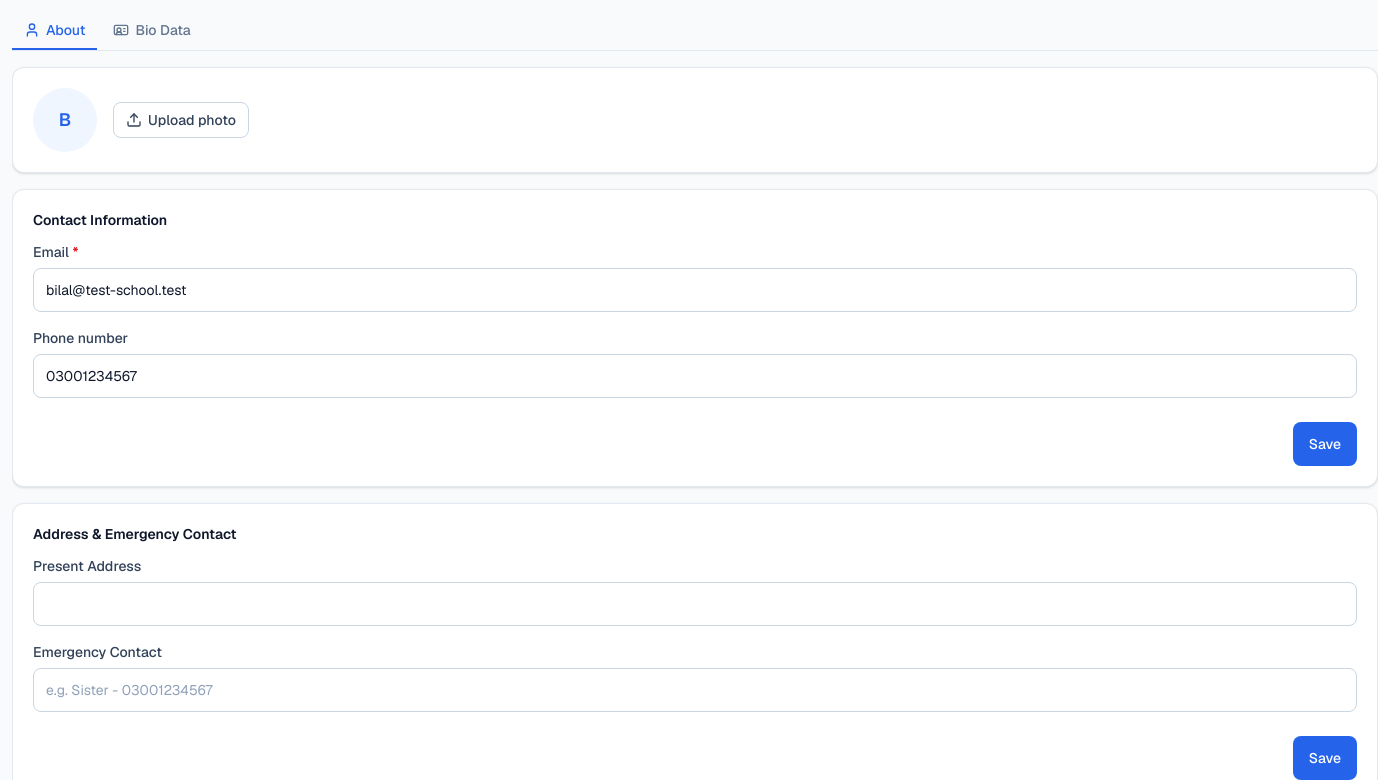
Test: StaffProfileTabs › shows read-only Bio Data (CNIC, DOB, gender) with no editable fields
The width and height of the screenshot is (1378, 780).
Click the button "Bio Data" at (152, 31), box [101,12,203,50]
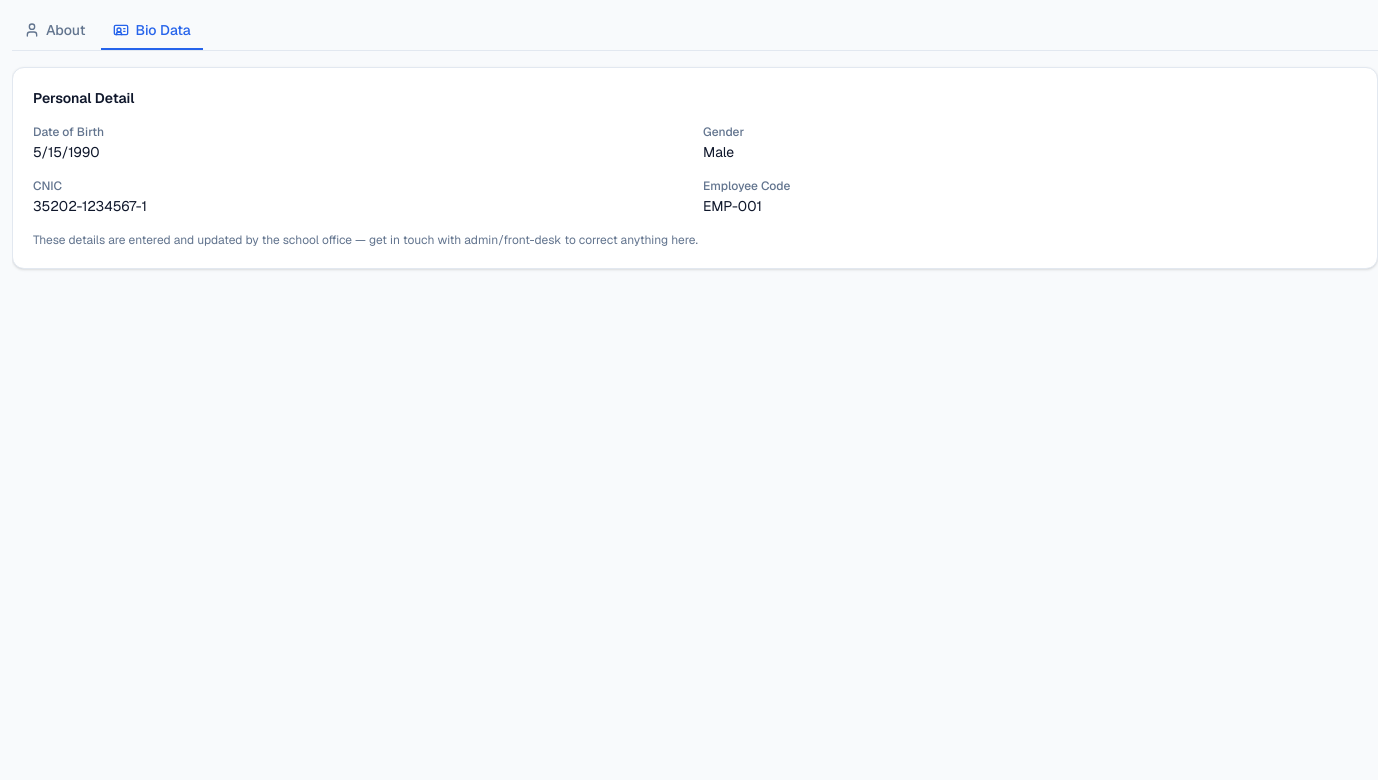
Expected: the text "35202-1234567-1" is shown, [33,197,147,215]
Expected: the text "Male" is shown, [703,143,734,161]
Expected: the text "EMP-001" is shown, [703,197,762,215]
